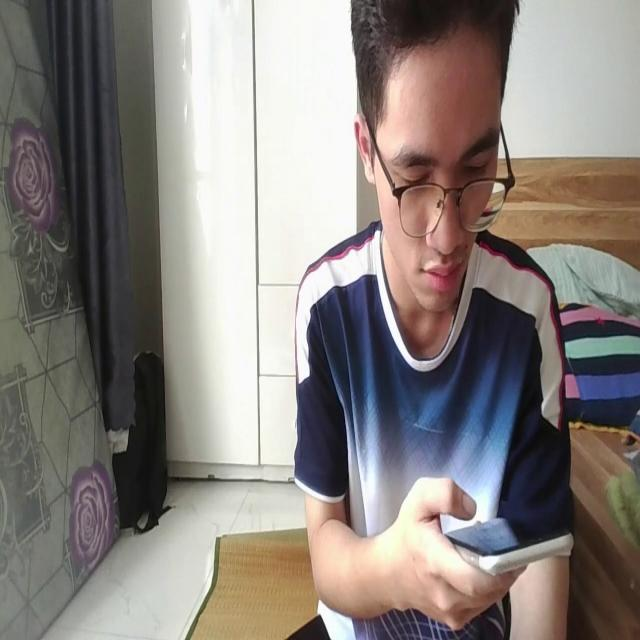phone: (439, 505, 573, 577)
student: (292, 1, 571, 640)
